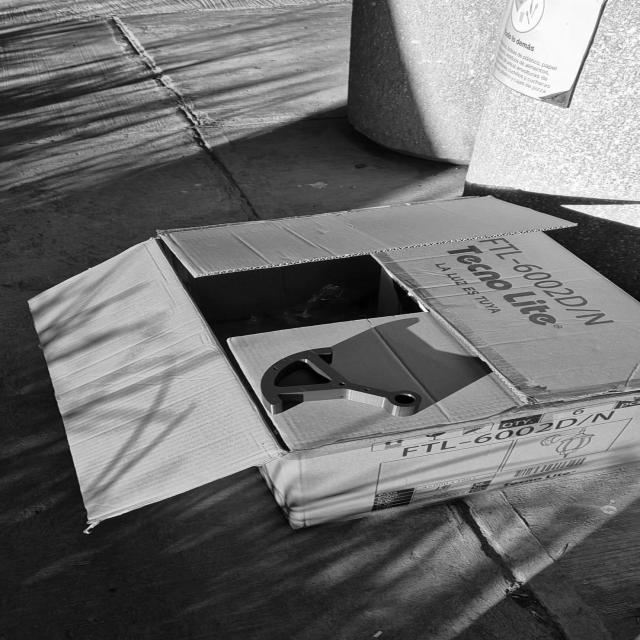haptic: (258, 346, 422, 418)
